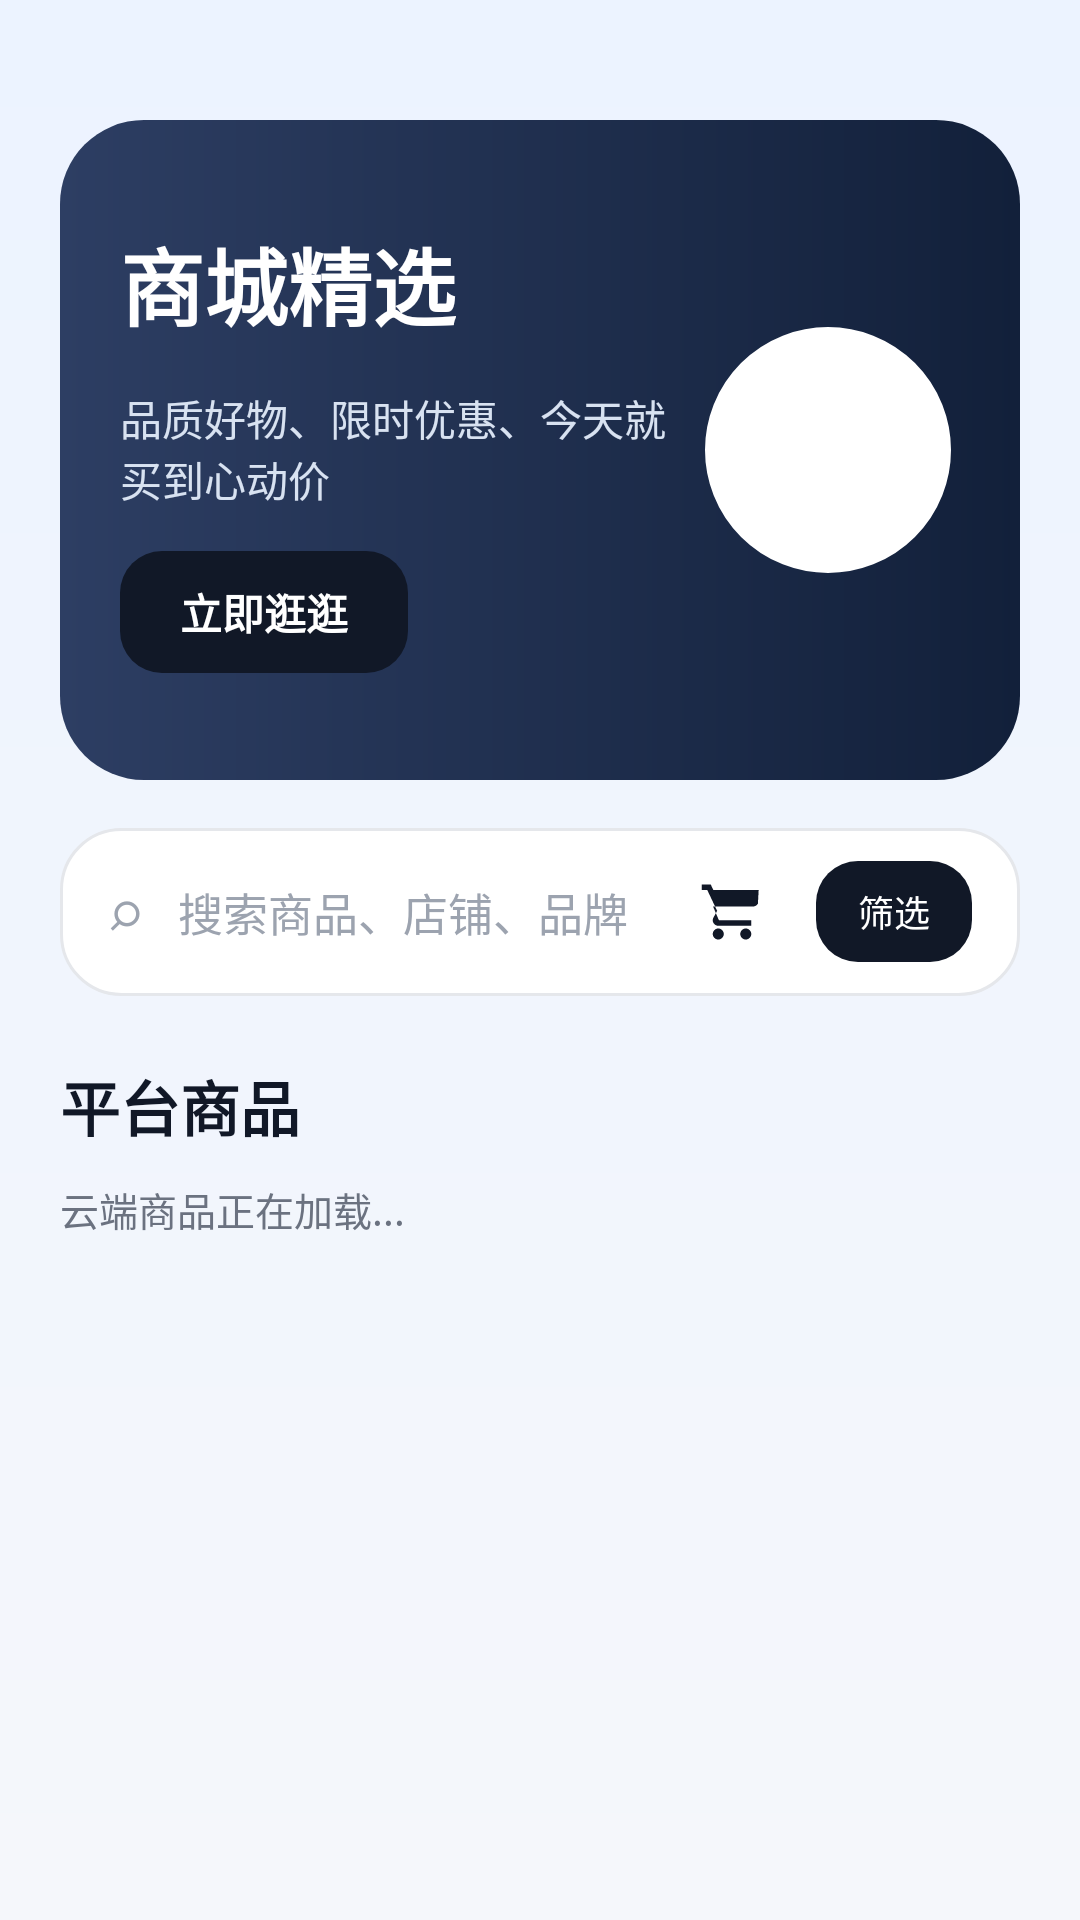

Icons on this 1080w x 1920h Android screen, each with the point to tap as point (x, y):
cart: point (730, 912)
